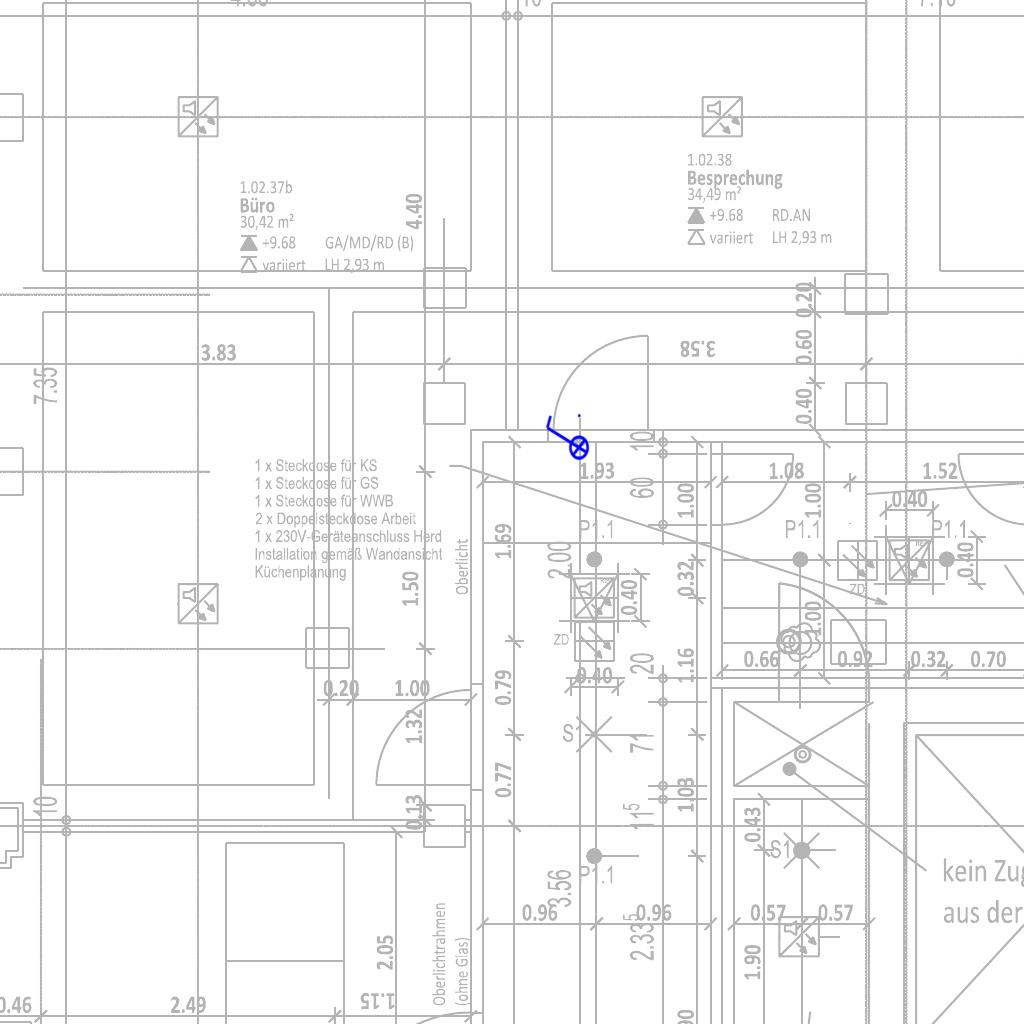Ausschalter_beleuchtet: (542, 411, 590, 467)
